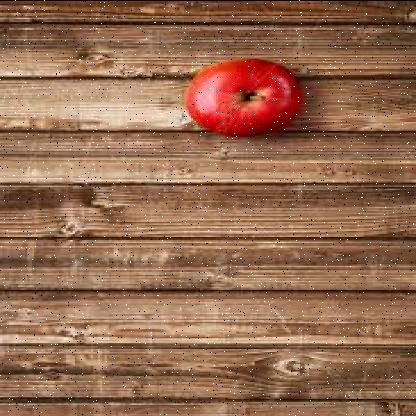apple: (180, 58, 304, 138)
